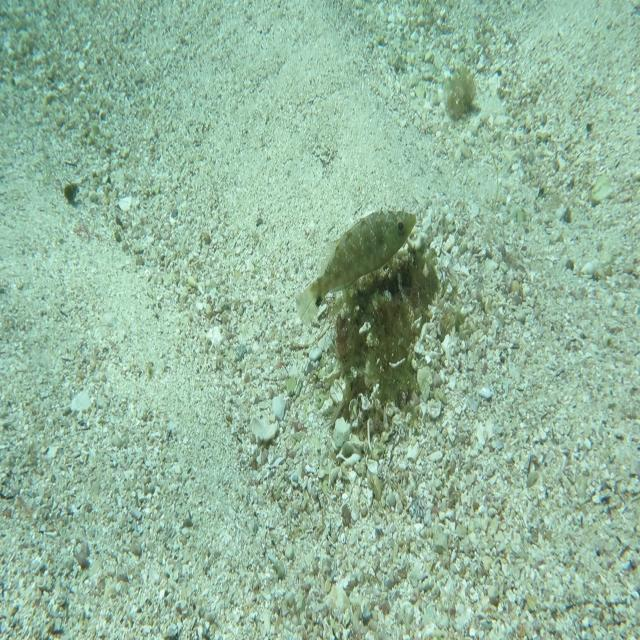FAN: (295, 207, 417, 328)
core_nest: (378, 264, 422, 306)
nest: (317, 216, 447, 424)
vegetation: (446, 56, 476, 124), (62, 177, 84, 209)
